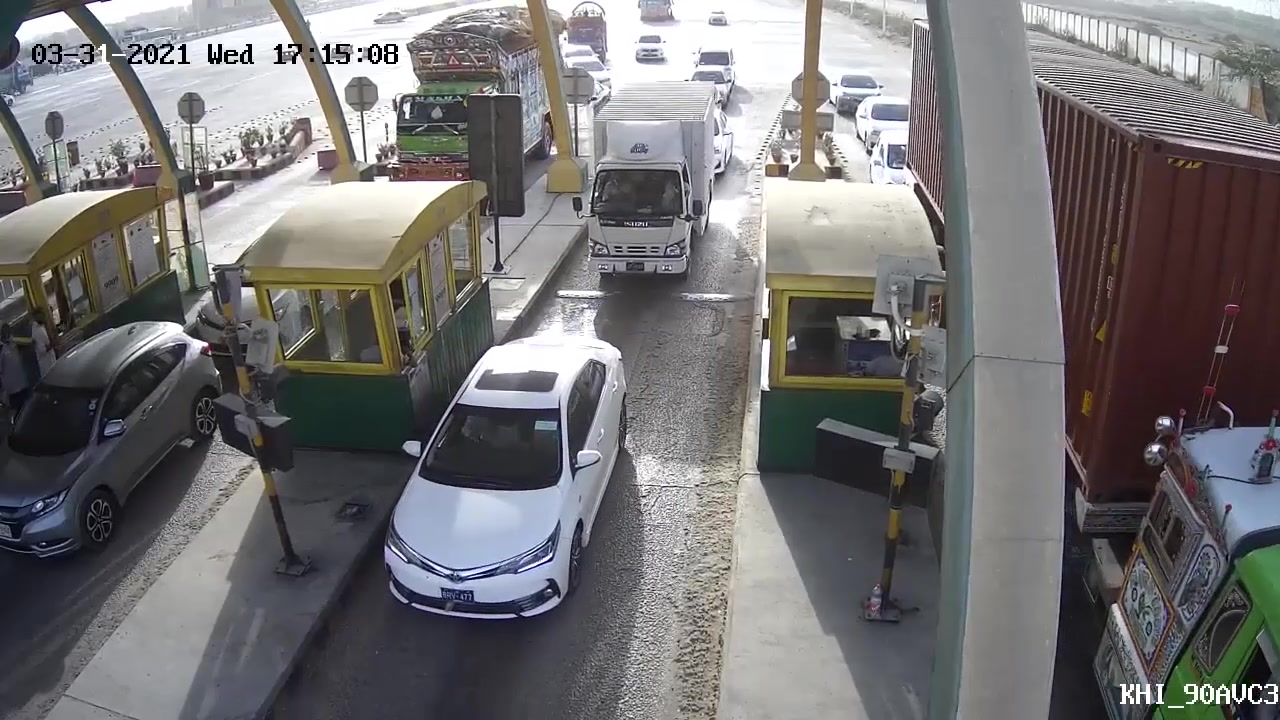F1: (372, 326, 637, 652)
F5: (577, 71, 725, 284)
